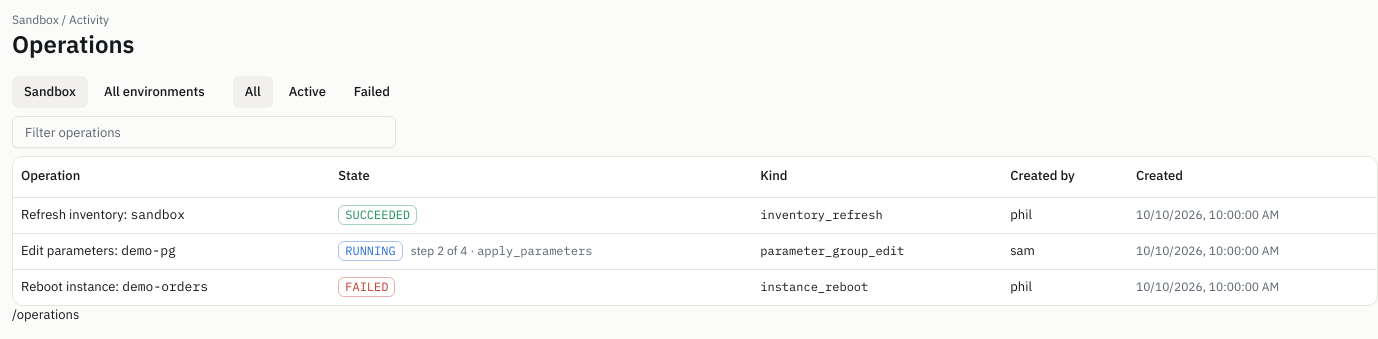
it: OperationsPage › filters the list to active or failed operations on the server and back to all
The width and height of the screenshot is (1378, 339).
expect the link "Refresh inventory: sandbox" is shown: met, box [21, 206, 185, 223]
Step 1. Click the button "Active" → point(307, 92), box [277, 76, 338, 108]
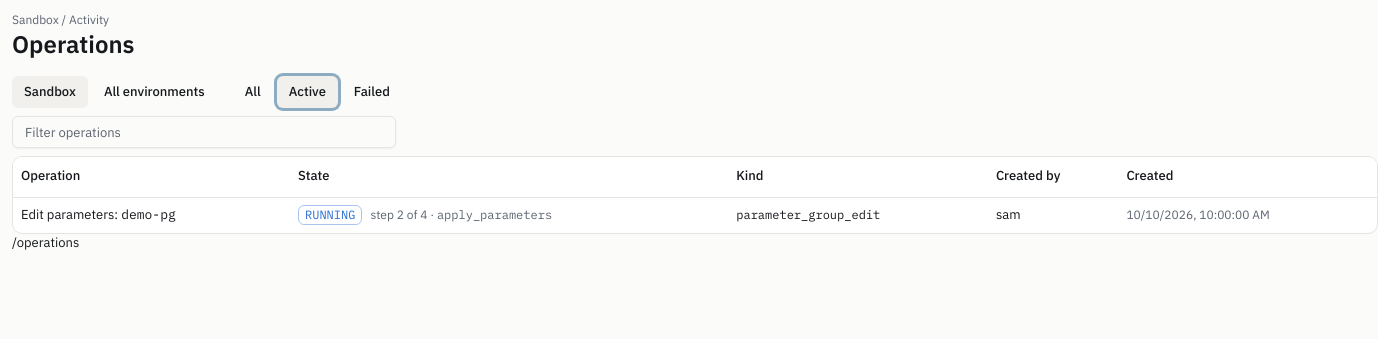
expect the link "Edit parameters: demo-pg" is shown: met, box [21, 206, 176, 223]
expect the link "Refresh inventory: sandbox" is gone: met
Step 2. Click the button "Failed" → point(372, 92), box [342, 76, 402, 108]
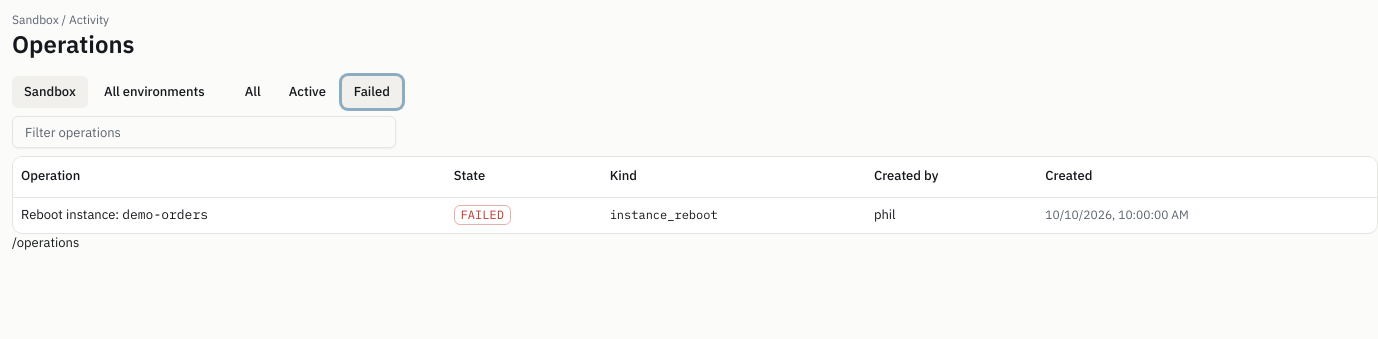
expect the link "Reboot instance: demo-orders" is shown: met, box [21, 206, 208, 223]
expect the link "Edit parameters: demo-pg" is gone: met
Step 3. Click the button "All" → point(253, 92), box [233, 76, 273, 108]
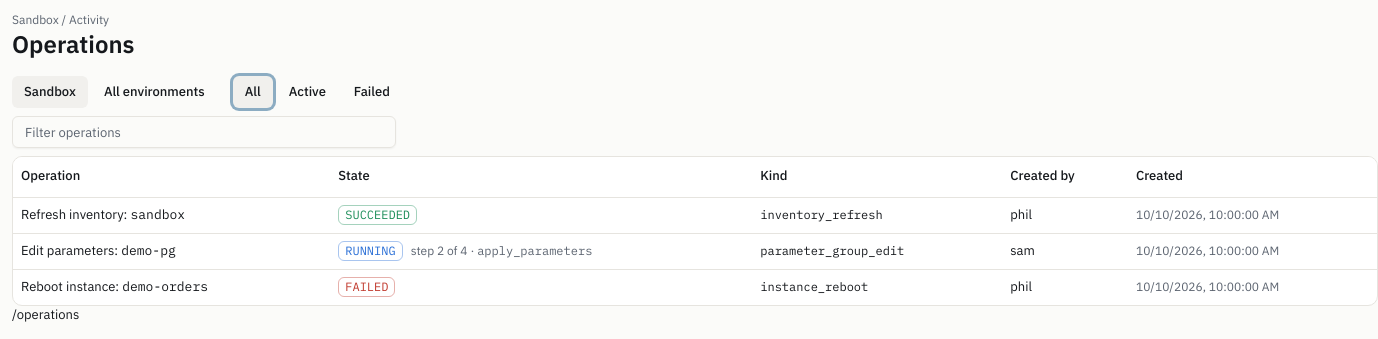
expect the link "Refresh inventory: sandbox" is shown: met, box [21, 206, 185, 223]
